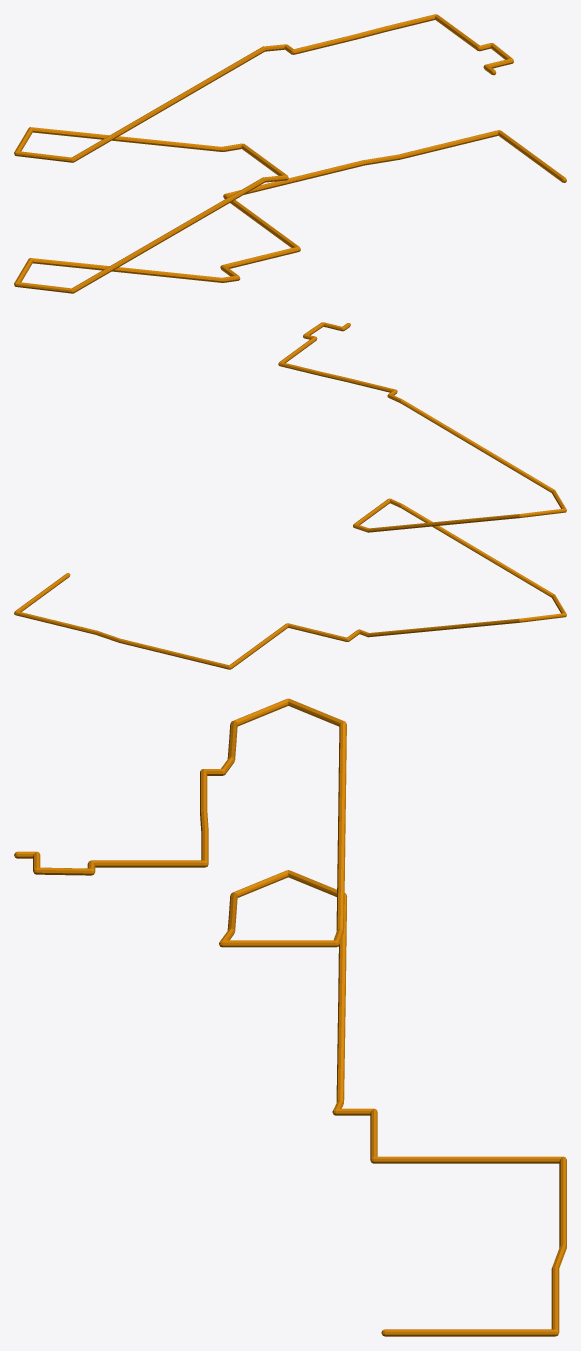
The picture shows the model from 3 angles, top to bottom: view 1: azimuth 30°, elevation 25°; view 2: azimuth 150°, elevation 25°; view 3: azimuth 270°, elevation 25°; orthographic projection. The views are drawn at different scales.
Bounding box in the file's own units: 2356 × 1020 × 1461.
